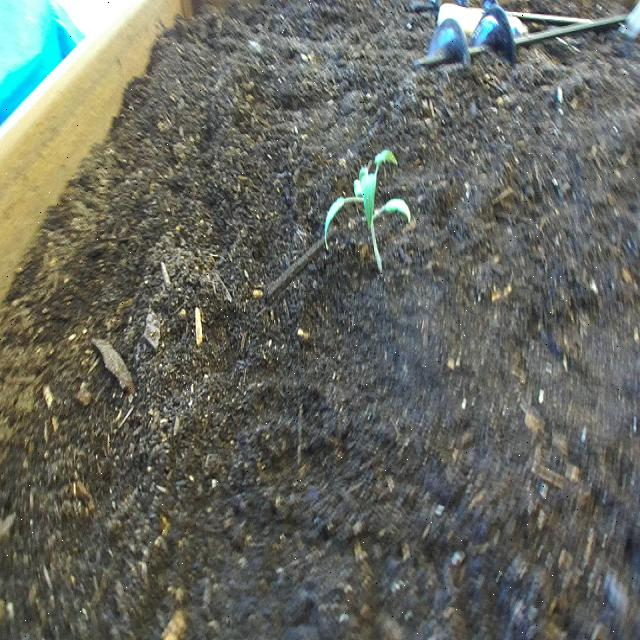Healthy: (313, 130, 424, 294)
